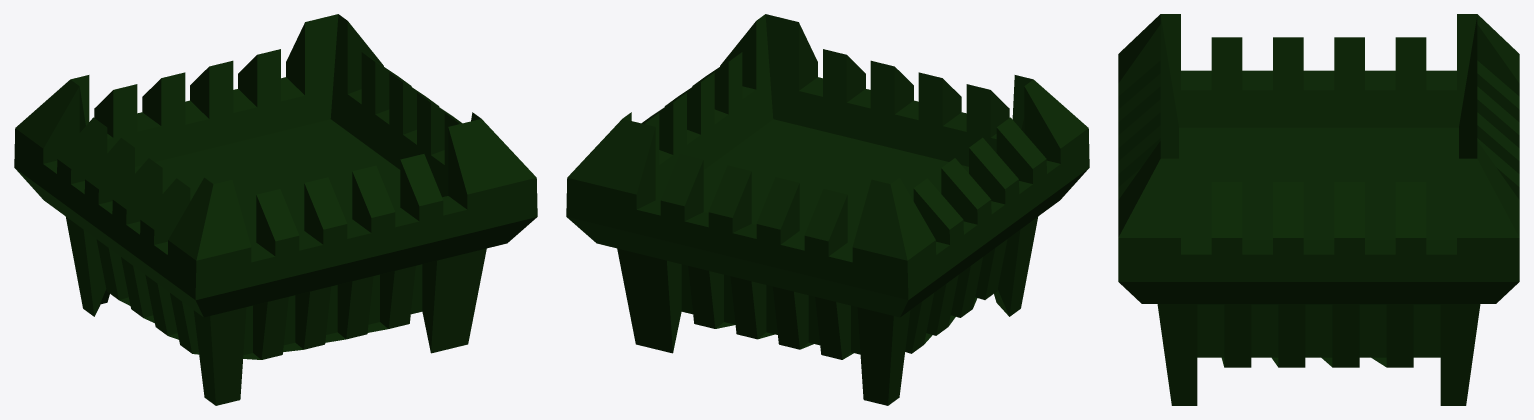
File: square-top-5.fbx
3 renders of one model, left to right at view 1: azimuth 30°, elevation 25°; view 2: azimuth 150°, elevation 25°; view 3: azimuth 270°, elevation 25°, orthographic. The views are drawn at different scales.
Parts seen in each view (by area): view 1: square-top-5; view 2: square-top-5; view 3: square-top-5.
Part boxes in pixels (x1,y1,x2,y2): square-top-5: (14, 14, 537, 405); square-top-5: (566, 14, 1089, 405); square-top-5: (1118, 14, 1519, 405).
Bounding box in the file's own units: 6.85 × 4.35 × 6.29.
